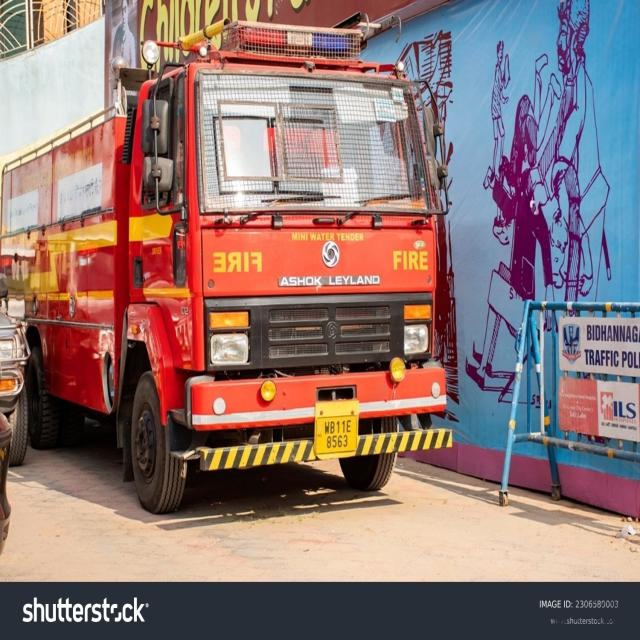emergency: (0, 22, 452, 513)
